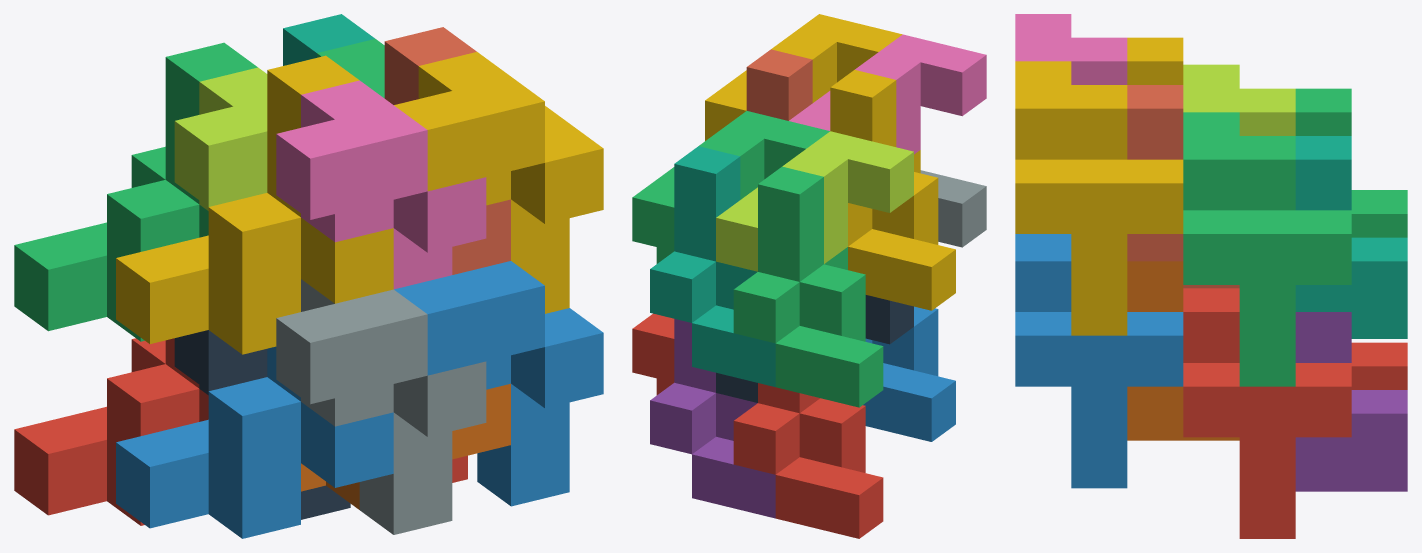
The model's file is tiling.obj.
3 views of the same model, side by side, from view 1: azimuth 30°, elevation 25°; view 2: azimuth 150°, elevation 25°; view 3: azimuth 270°, elevation 25° (orthographic). The views are drawn at different scales.
Parts seen in each view (by area): view 1: copy_1_domain_4, copy_2_domain_2, copy_1_domain_2, copy_2_domain_6, copy_2_domain_8, copy_2_domain_4, copy_1_domain_3, copy_1_domain_1, copy_2_domain_3, copy_1_domain_8, copy_2_domain_1, copy_1_domain_6 (+2 smaller); view 2: copy_1_domain_3, copy_1_domain_1, copy_1_domain_7, copy_1_domain_4, copy_1_domain_5, copy_2_domain_3, copy_2_domain_4, copy_2_domain_7, copy_1_domain_2, copy_2_domain_8, copy_1_domain_8, copy_2_domain_2 (+2 smaller); view 3: copy_2_domain_7, copy_2_domain_8, copy_2_domain_6, copy_2_domain_5, copy_1_domain_5, copy_1_domain_7, copy_1_domain_6, copy_1_domain_8, copy_2_domain_3, copy_1_domain_3, copy_2_domain_4, copy_1_domain_1 (+1 smaller).
Boxes of the visible parts, x1,y1,x2,y2 form: copy_1_domain_4: [116, 55, 393, 354]; copy_2_domain_2: [276, 279, 486, 534]; copy_1_domain_2: [116, 346, 393, 538]; copy_2_domain_6: [394, 261, 603, 506]; copy_2_domain_8: [394, 52, 603, 313]; copy_2_domain_4: [276, 80, 486, 289]; copy_1_domain_3: [14, 42, 257, 341]; copy_1_domain_1: [14, 338, 208, 525]; copy_2_domain_3: [174, 67, 267, 210]; copy_1_domain_8: [384, 27, 510, 274]; copy_2_domain_1: [174, 330, 350, 519]; copy_1_domain_6: [301, 383, 510, 509]; copy_1_domain_3: [733, 166, 883, 407]; copy_1_domain_1: [733, 383, 883, 538]; copy_1_domain_7: [650, 146, 775, 386]; copy_1_domain_4: [830, 70, 955, 310]; copy_1_domain_5: [650, 319, 775, 518]; copy_2_domain_3: [716, 131, 913, 271]; copy_2_domain_4: [789, 34, 986, 154]; copy_2_domain_7: [632, 111, 829, 263]; copy_1_domain_2: [863, 306, 955, 441]; copy_2_domain_8: [705, 14, 902, 140]; copy_1_domain_8: [746, 49, 812, 120]; copy_2_domain_2: [920, 170, 986, 247]; copy_2_domain_7: [1183, 112, 1351, 386]; copy_2_domain_8: [1015, 61, 1183, 335]; copy_2_domain_6: [1015, 234, 1183, 488]; copy_2_domain_5: [1183, 288, 1351, 538]; copy_1_domain_5: [1295, 312, 1407, 491]; copy_1_domain_7: [1295, 136, 1407, 338]; copy_1_domain_6: [1127, 261, 1239, 440]; copy_1_domain_8: [1127, 85, 1239, 288]; copy_2_domain_3: [1183, 64, 1295, 135]; copy_1_domain_3: [1295, 88, 1407, 237]; copy_2_domain_4: [1015, 14, 1127, 84]; copy_1_domain_1: [1351, 342, 1407, 389].
Size of the model in its own units: 6 by 8 by 7.
